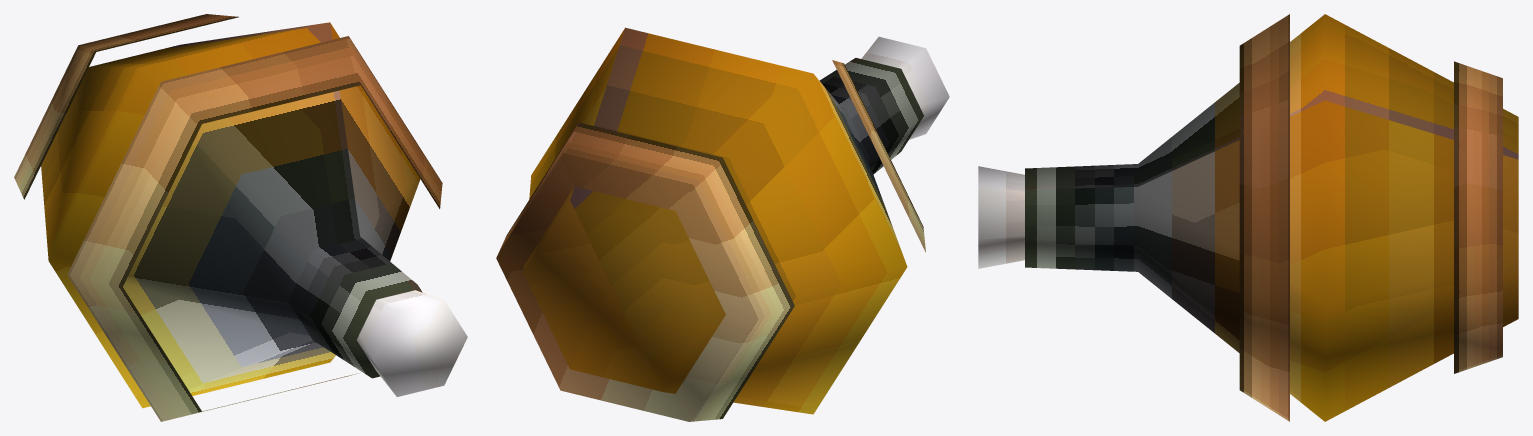
File: sdwater03.glb
3 views of the same model, side by side, from view 1: azimuth 30°, elevation 25°; view 2: azimuth 150°, elevation 25°; view 3: azimuth 270°, elevation 25° (orthographic). The views are drawn at different scales.
Parts seen in each view (by area): view 1: model_sdwater03; view 2: model_sdwater03; view 3: model_sdwater03.
Part boxes in pixels (x1,y1,x2,y2): model_sdwater03: (14, 14, 467, 421); model_sdwater03: (496, 27, 949, 421); model_sdwater03: (978, 14, 1518, 421).
Bounding box in the file's own units: 0.3182 × 0.2756 × 0.4199.
2 materials, 2 textured.
